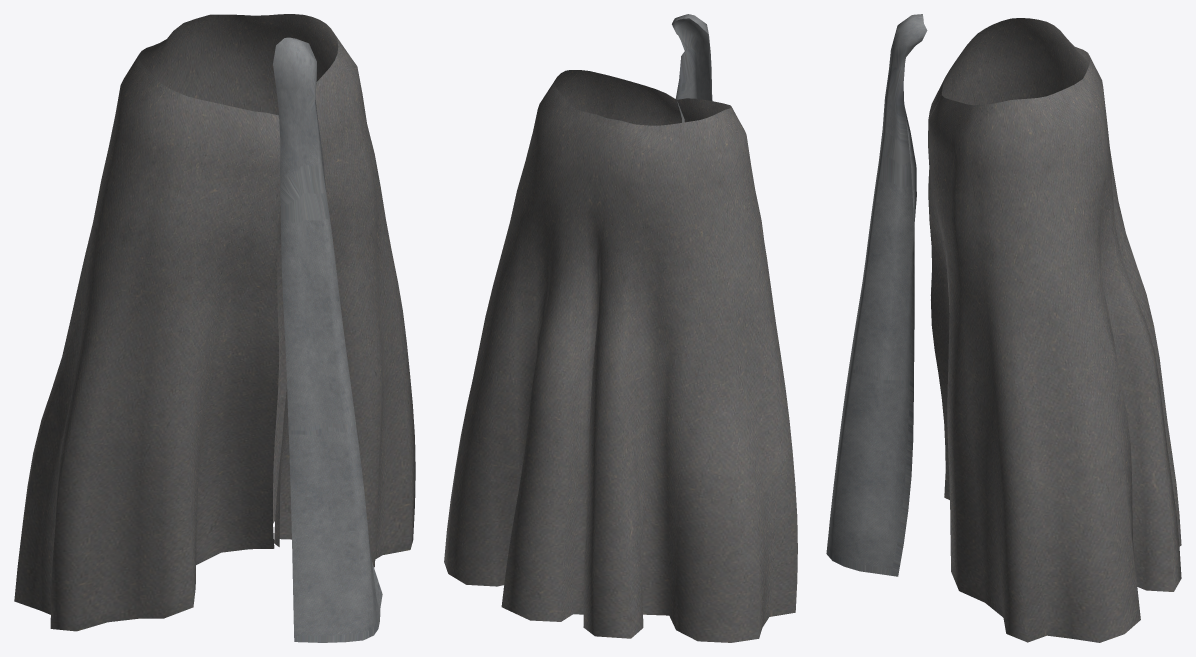
The model's file is clo_rivendell_torso_infantry_tier1.fbx.
3 renders of one model, left to right at view 1: azimuth 30°, elevation 25°; view 2: azimuth 150°, elevation 25°; view 3: azimuth 270°, elevation 25°, orthographic. The views are drawn at different scales.
Visible parts, largest first — view 1: clo_rivendell_torso_infantry_tier1; view 2: clo_rivendell_torso_infantry_tier1; view 3: clo_rivendell_torso_infantry_tier1.
Boxes of the visible parts, bbox=[...] form: clo_rivendell_torso_infantry_tier1: bbox=[14, 14, 415, 642]; clo_rivendell_torso_infantry_tier1: bbox=[444, 14, 797, 642]; clo_rivendell_torso_infantry_tier1: bbox=[826, 14, 1181, 642].
Bounding box in the file's own units: 0.6018 × 0.5499 × 0.9486.
1 material, 1 textured.
